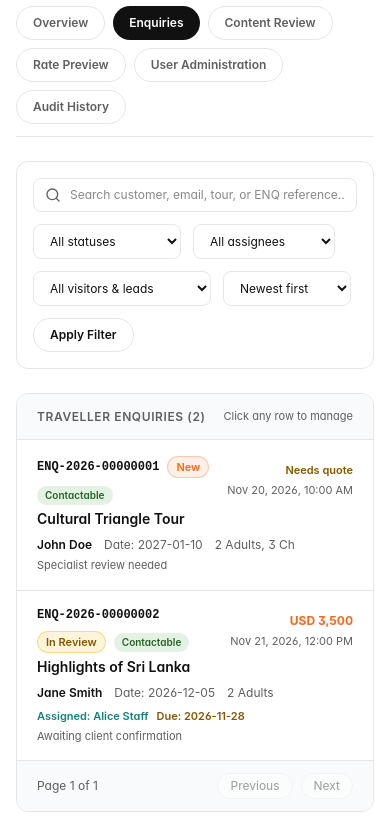
Test case: Staff Enquiry Management Layout and Scrolling Usability › manages mobile view switching with data-mobile-view attribute and Back button
The width and height of the screenshot is (390, 832).
(page scrolled)
Check: the text "ENQ-2026-00000001" is shown, box [37,459,159,475]
// Click an enquiry row
Click the button "ENQ-2026-00000001": (98, 467) [17,440,373,591]
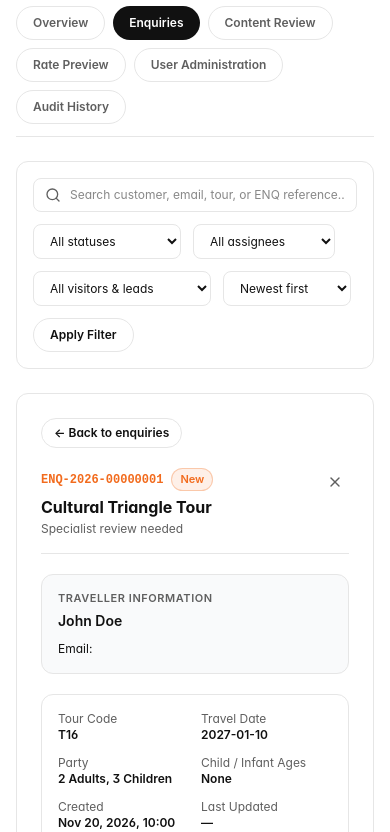
Check: the button "← Back to enquiries" is shown
// Click back button
Click the button "← Back to enquiries": (112, 433) [41,418,182,448]
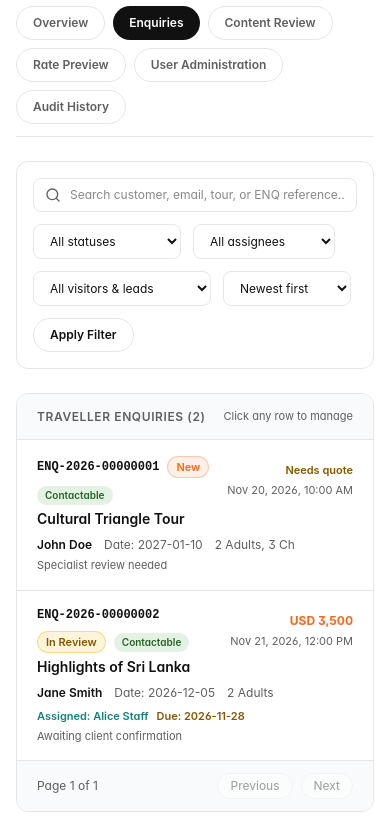
Check: the element with class "staff-enquiry-workspace" has attribute data-mobile-view="list", box [16,393,374,812]
